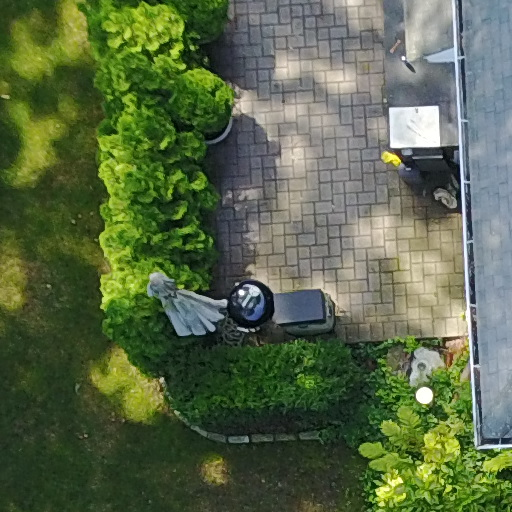container: (412, 348, 447, 379)
